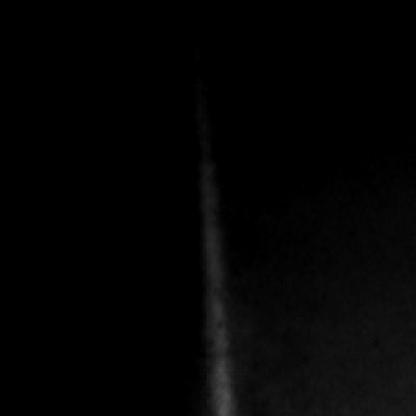scratches: (192, 60, 244, 416)
